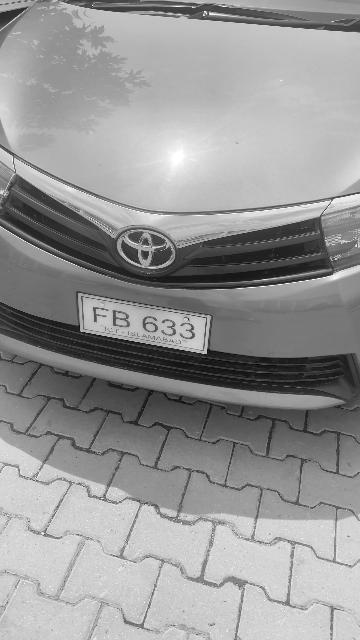Number: (88, 301, 197, 344)
